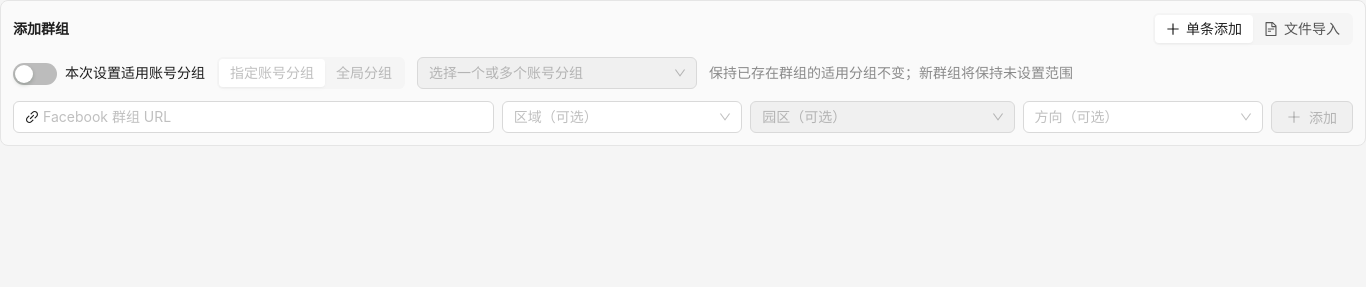
Test: FacebookGroupImportPanel › defaults to single add and switches modes without submitting
Expected: the field labelled "群组 URL" is shown, [43,106,482,128]
Click the text "文件导入": {"x": 1312, "y": 28} [1284,20,1340,37]
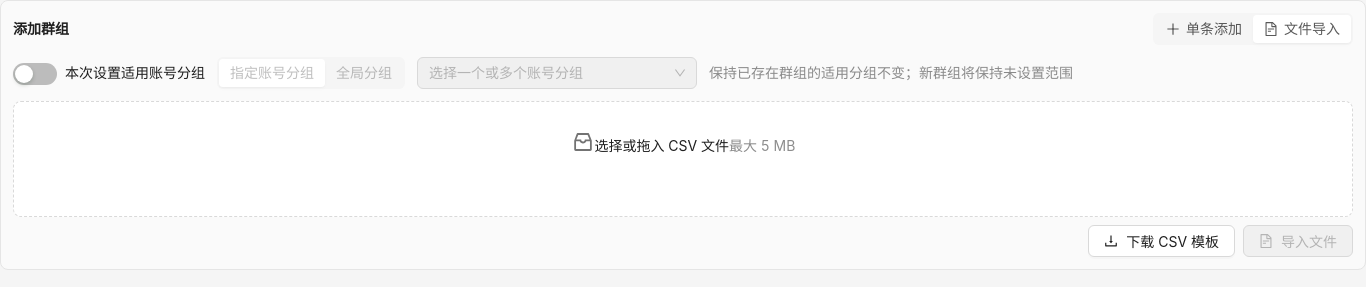
Result: the text "选择或拖入 CSV 文件" is shown at [595,137,729,154]
